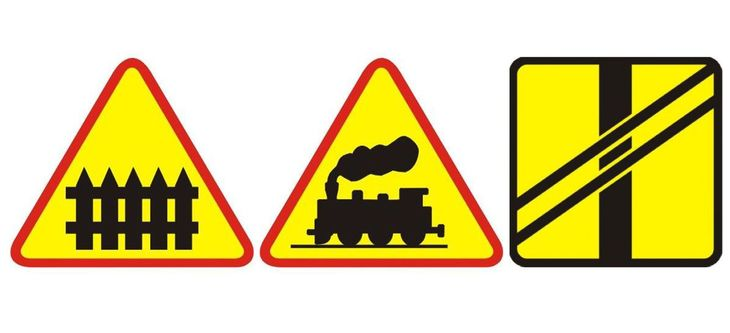a10: (287, 133, 464, 254)
a9: (61, 165, 207, 257)
